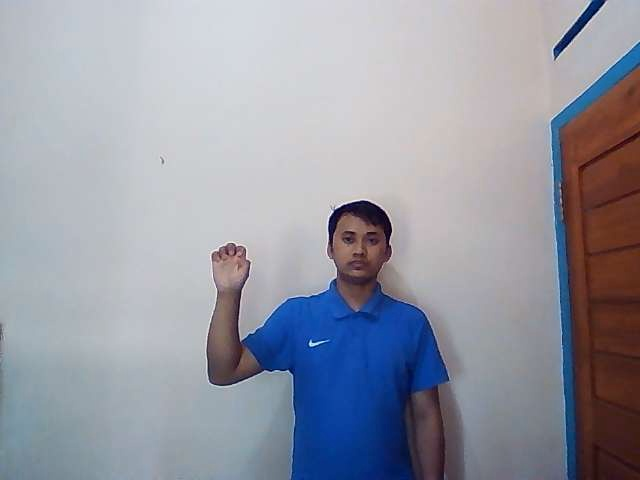E: (210, 242, 252, 292)
